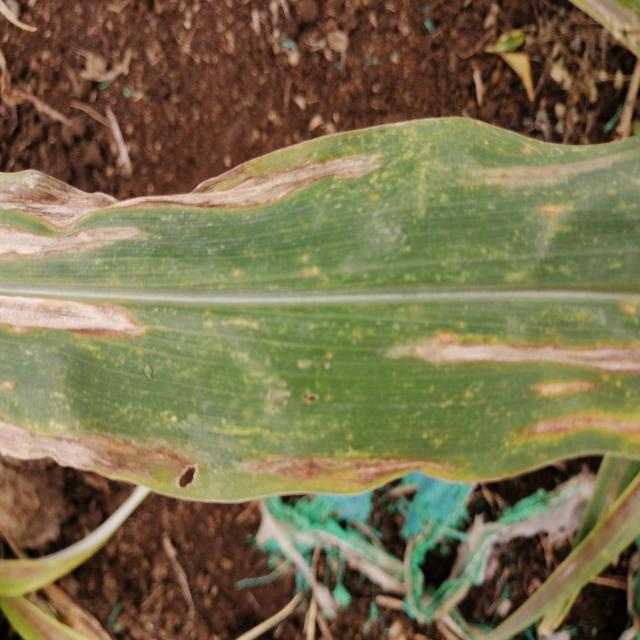Corn_Leaf_Blight: (0, 121, 640, 489)
